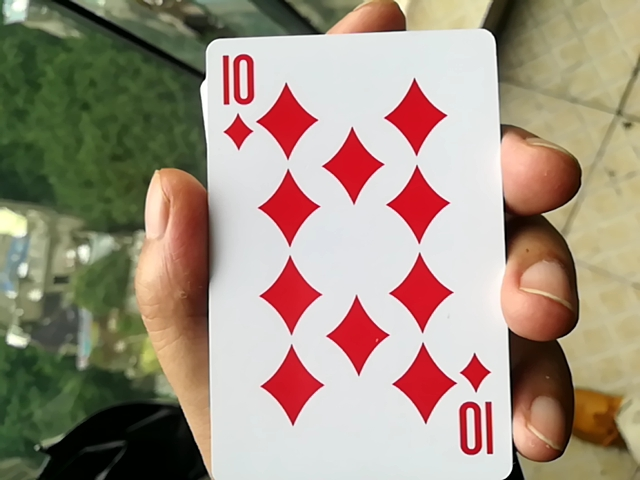fk 10: (191, 18, 514, 475)
